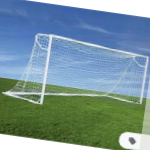goals: (2, 31, 150, 112)
